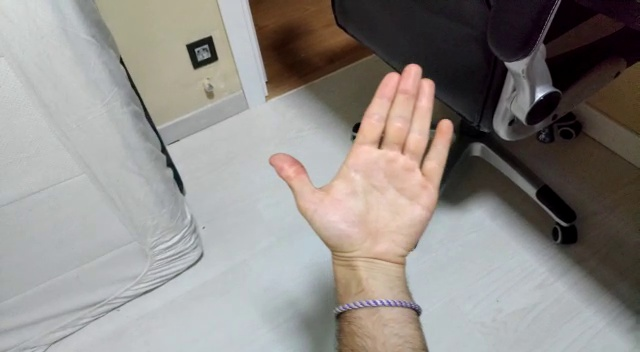Palm: (266, 61, 456, 256)
